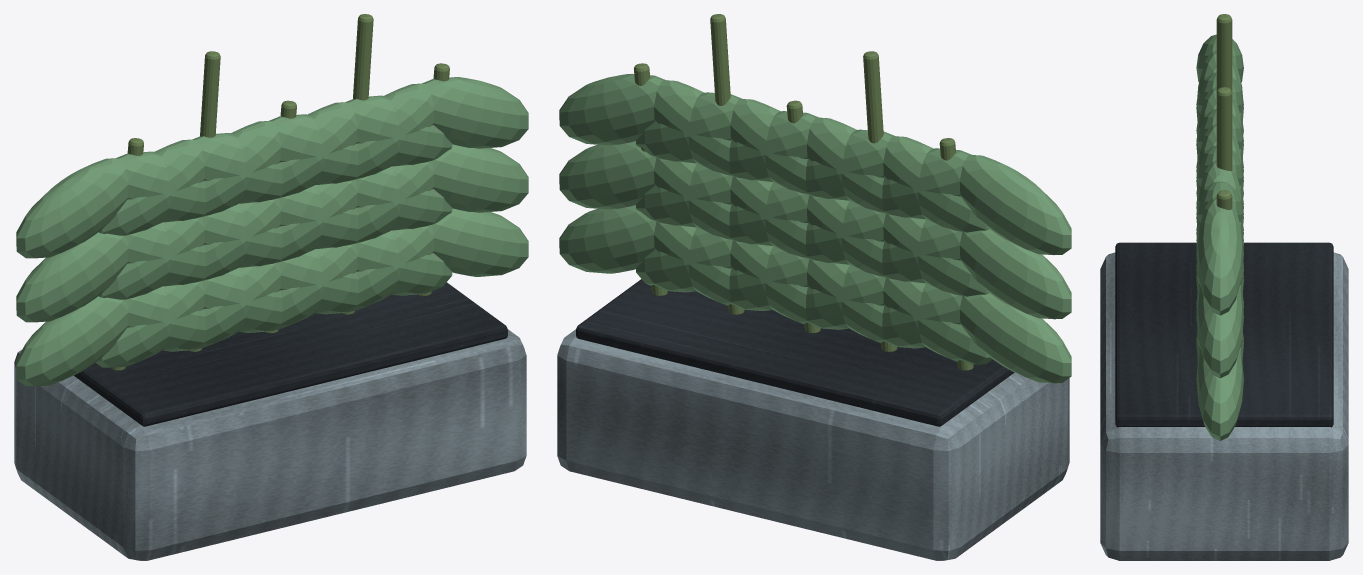
Rendered from garden_planter.glb.
The picture shows the model from 3 angles, left to right: view 1: azimuth 30°, elevation 25°; view 2: azimuth 150°, elevation 25°; view 3: azimuth 270°, elevation 25°; orthographic projection. The views are drawn at different scales.
Visible parts, largest first — view 1: garden_planter; view 2: garden_planter; view 3: garden_planter.
Part boxes in pixels (box(x1,y1,x2,y2)): garden_planter: box(14, 14, 528, 560); garden_planter: box(557, 14, 1071, 560); garden_planter: box(1100, 14, 1348, 560).
Size of the model in its own units: 2.68 by 2.19 by 1.15.
Materials: 4 (2 with a texture image).
